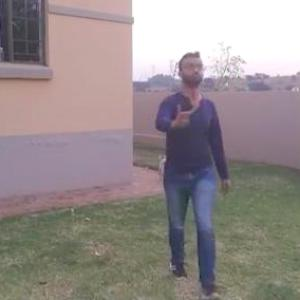takeoff-hand: (166, 102, 197, 136)
